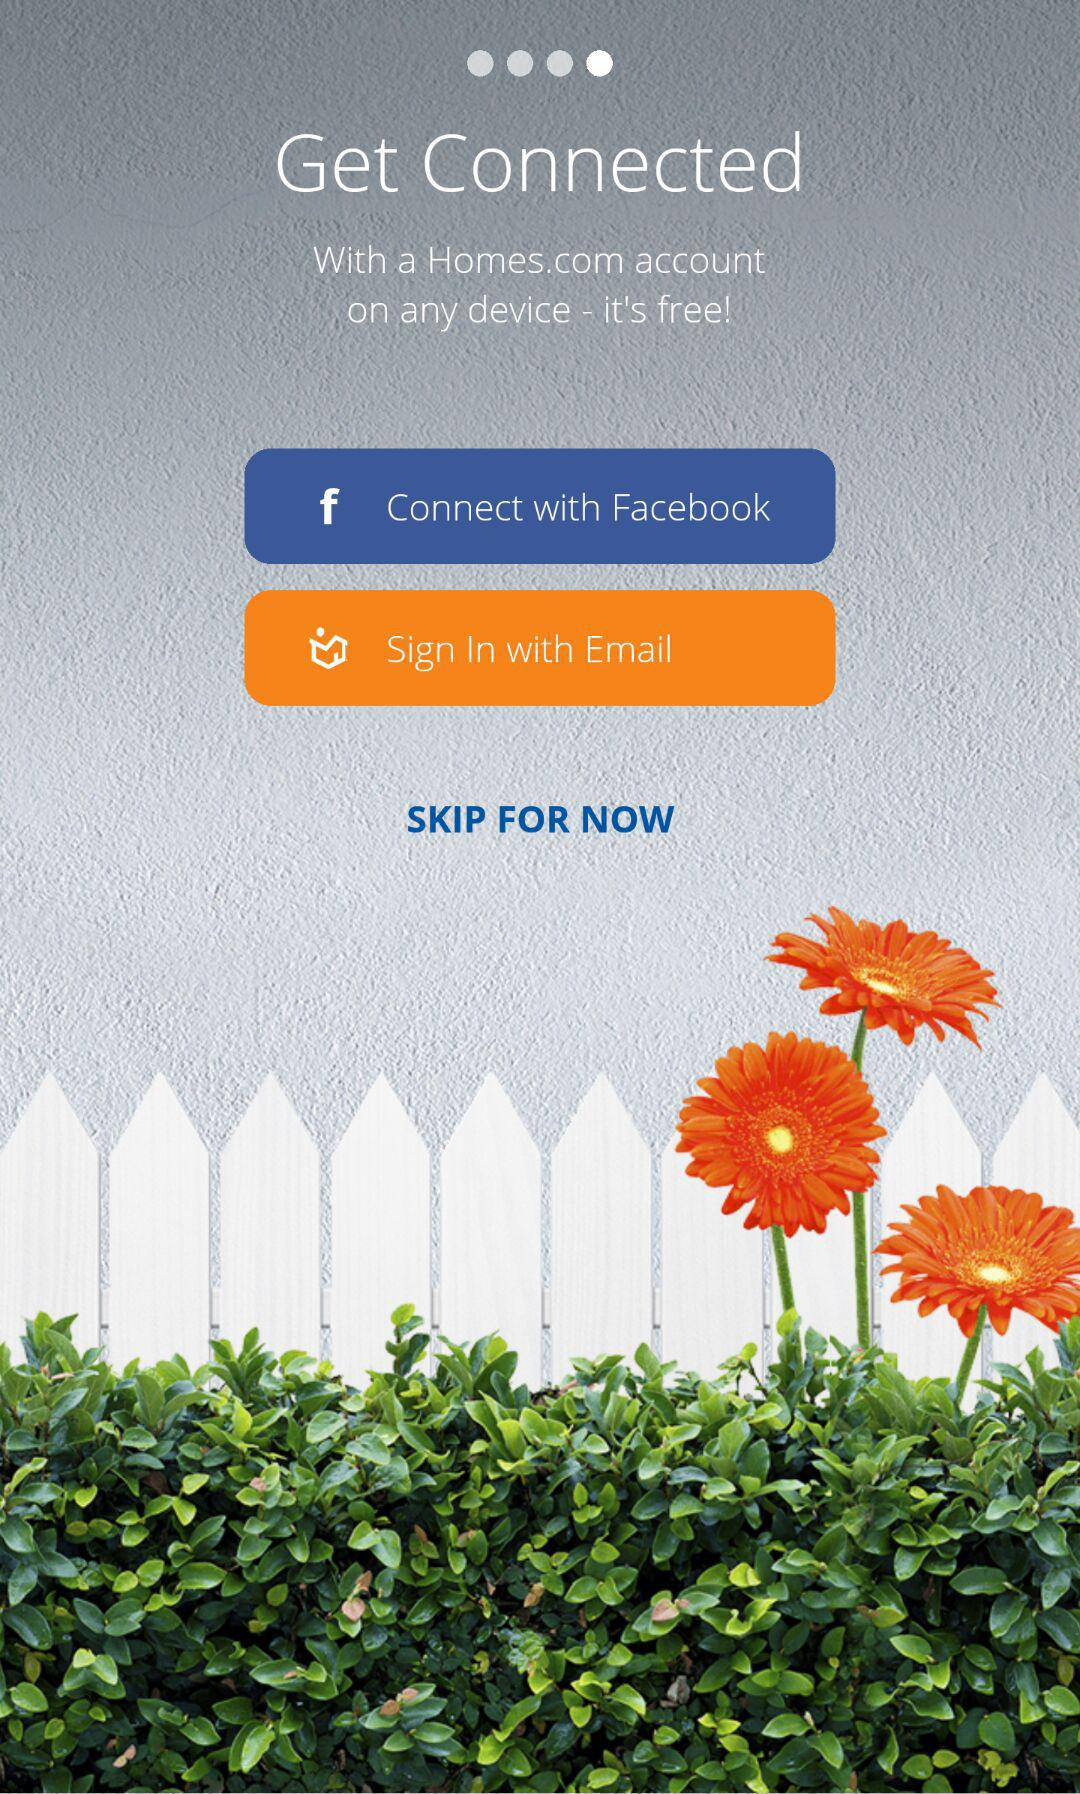BackgroundImage: (1, 3, 1080, 1794)
Image: (1, 905, 1080, 1794)
PageIndicator: (466, 49, 615, 79)
Text: (313, 243, 766, 334), (277, 131, 801, 193), (407, 805, 676, 834)
TextButton: (245, 589, 837, 707), (243, 448, 837, 565)
